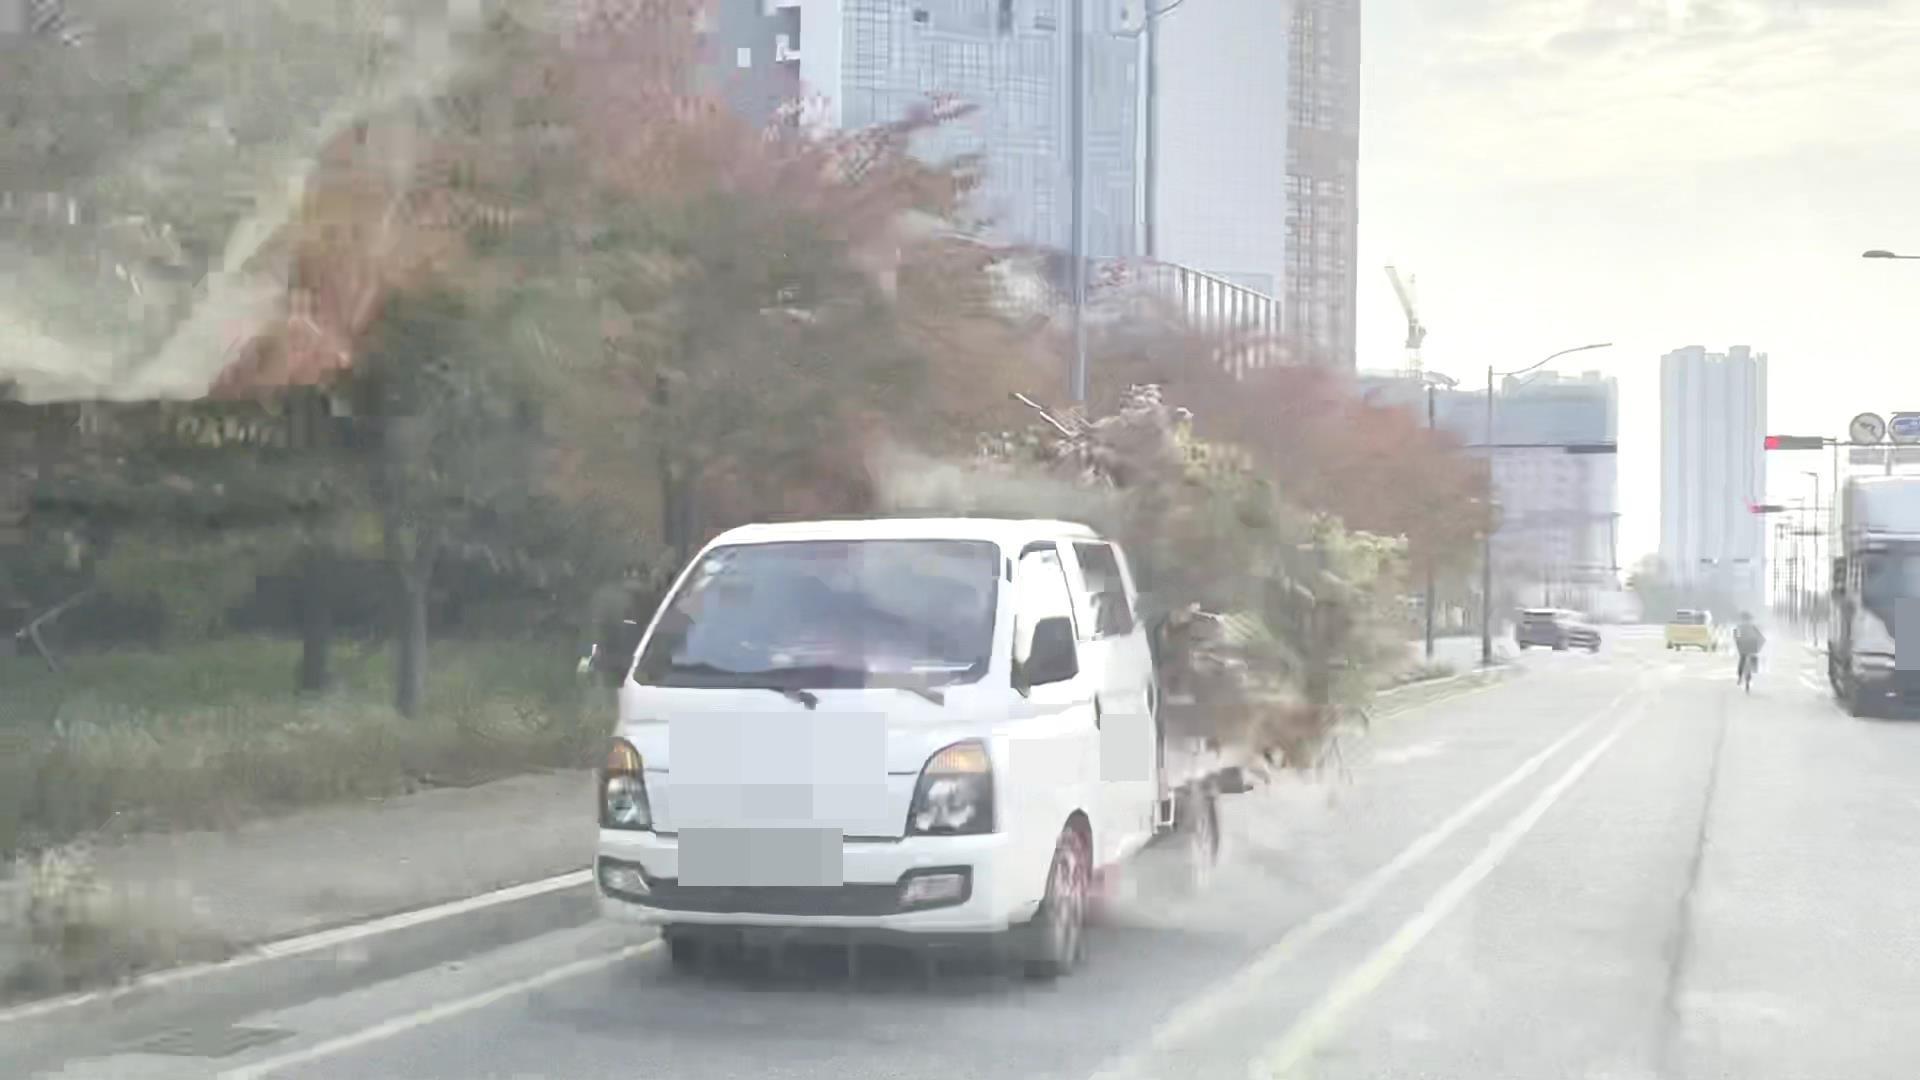불법차량: (575, 384, 1419, 983)
